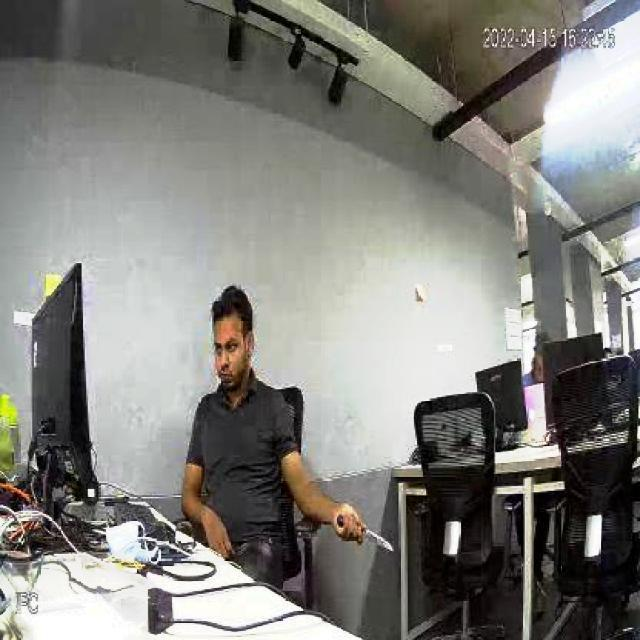Knife: (329, 507, 400, 563)
